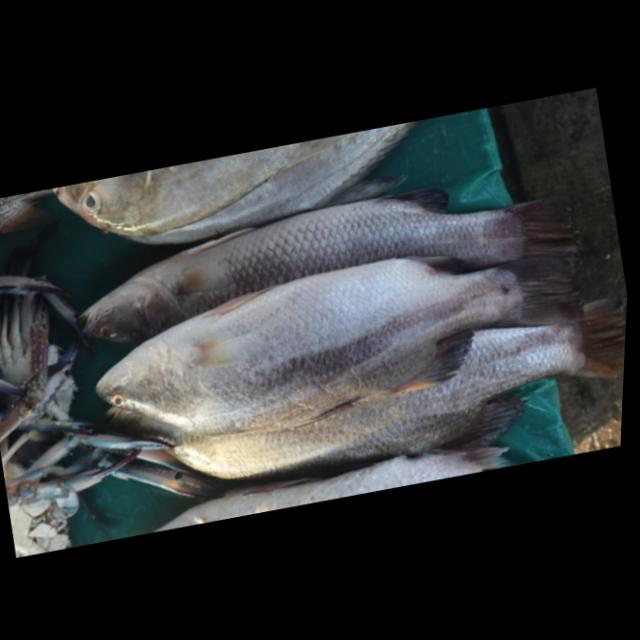Seabass: (72, 218, 600, 466), (65, 159, 577, 361)
